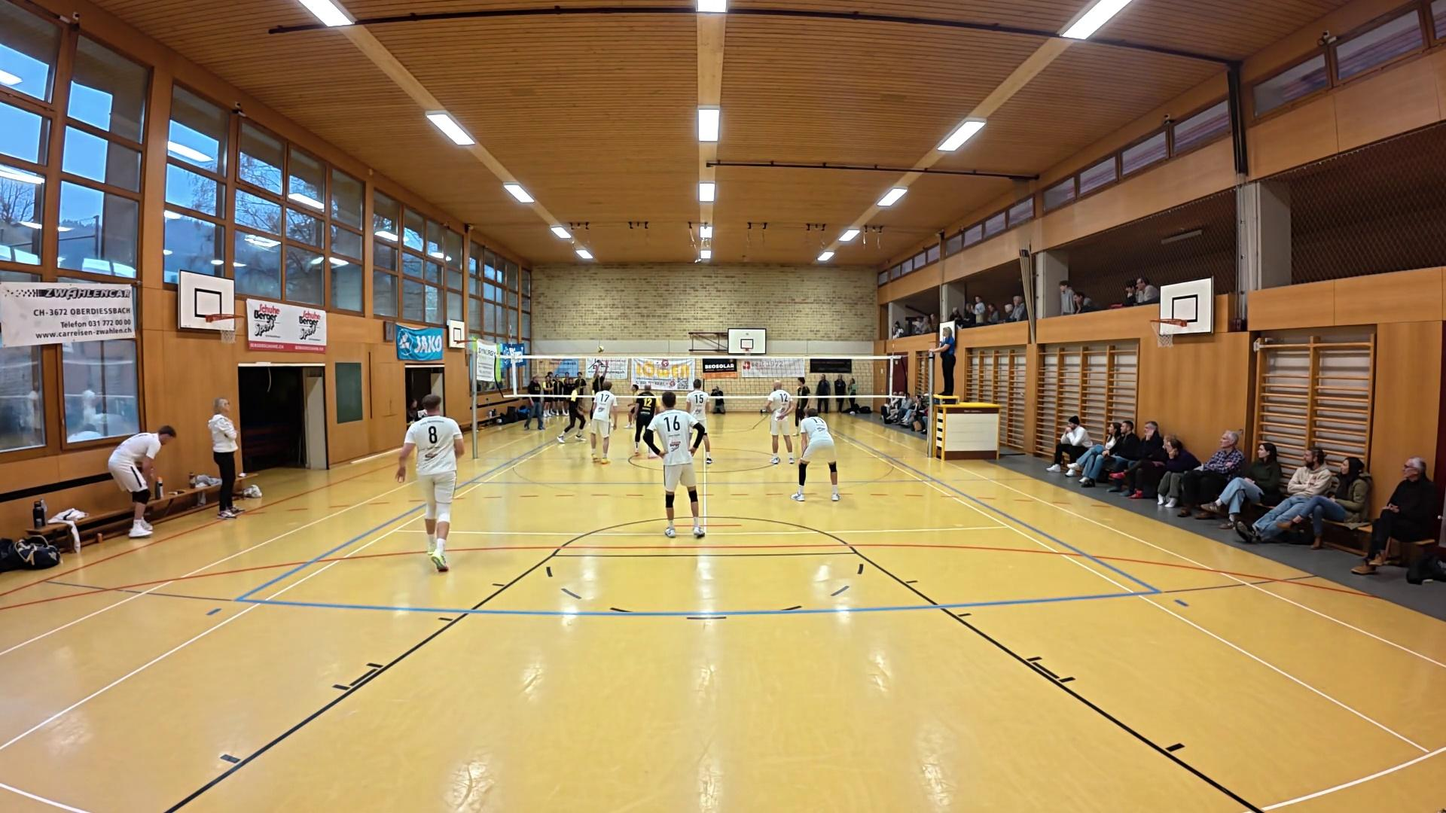Player: (396, 395, 465, 572), (659, 410, 706, 537), (792, 405, 840, 501), (764, 379, 799, 467), (591, 379, 625, 464), (630, 387, 666, 463), (684, 381, 712, 467), (558, 382, 592, 446), (590, 357, 615, 430), (787, 375, 811, 438), (622, 383, 642, 428)
ball: (595, 345, 605, 355)
